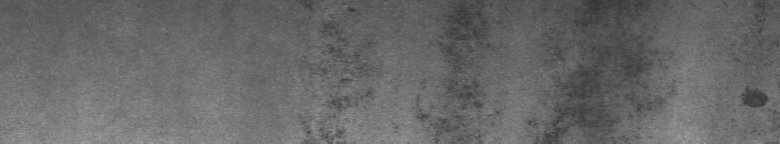fi: (740, 86, 771, 111)
